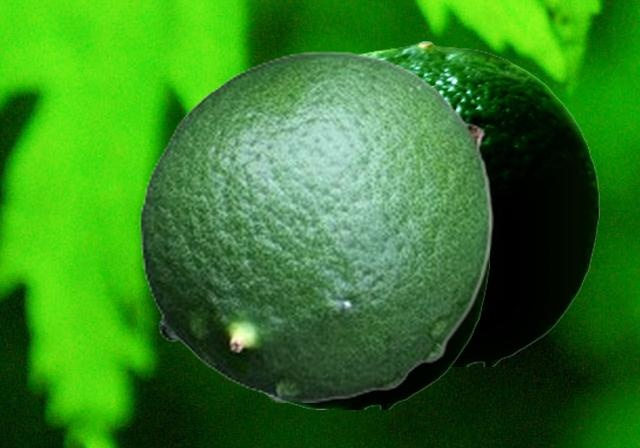calamansi: (139, 50, 492, 401), (359, 40, 598, 365), (261, 267, 488, 408)
